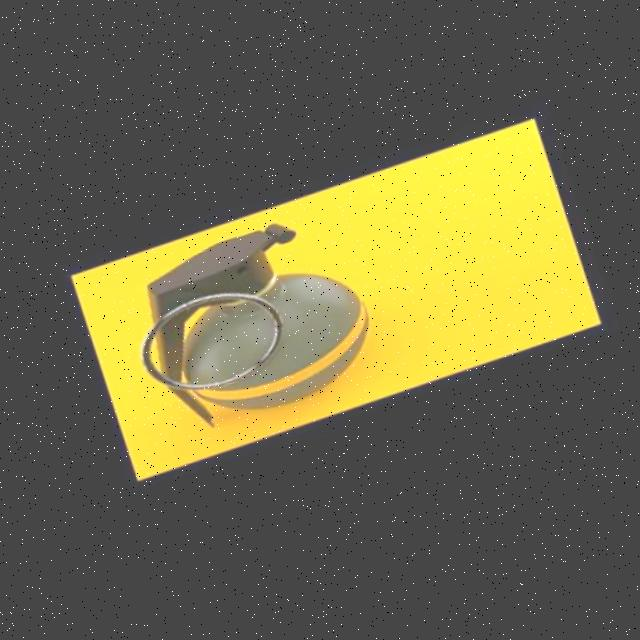grenade: (94, 195, 395, 452)
